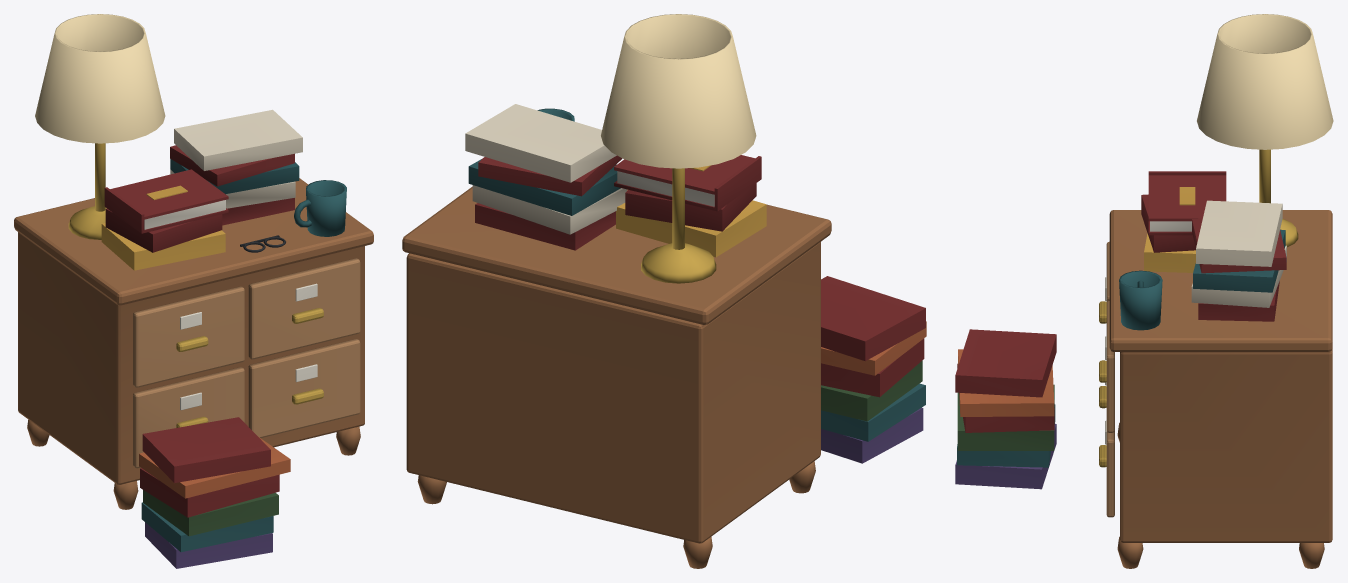
File: bedsideStack.glb
3 views of the same model, side by side, from view 1: azimuth 30°, elevation 25°; view 2: azimuth 150°, elevation 25°; view 3: azimuth 270°, elevation 25° (orthographic). The views are drawn at different scales.
Visible parts, largest first — view 1: body, cover; view 2: body, cover; view 3: body, cover.
Boxes of the visible parts, <box> form: body: <box>14,14,373,568</box>; cover: <box>110,169,228,219</box>; body: <box>402,14,926,568</box>; cover: <box>614,155,754,194</box>; body: <box>955,14,1333,568</box>; cover: <box>1148,175,1226,221</box>.
Bounding box in the file's own units: 0.6257 × 0.9312 × 0.7298.
